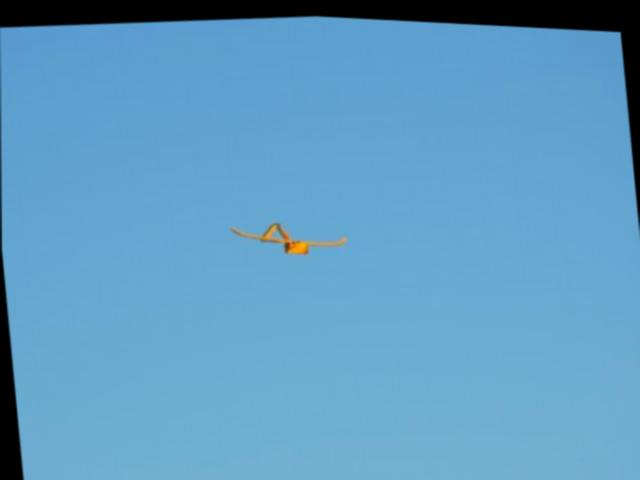iha: (225, 203, 355, 267)
